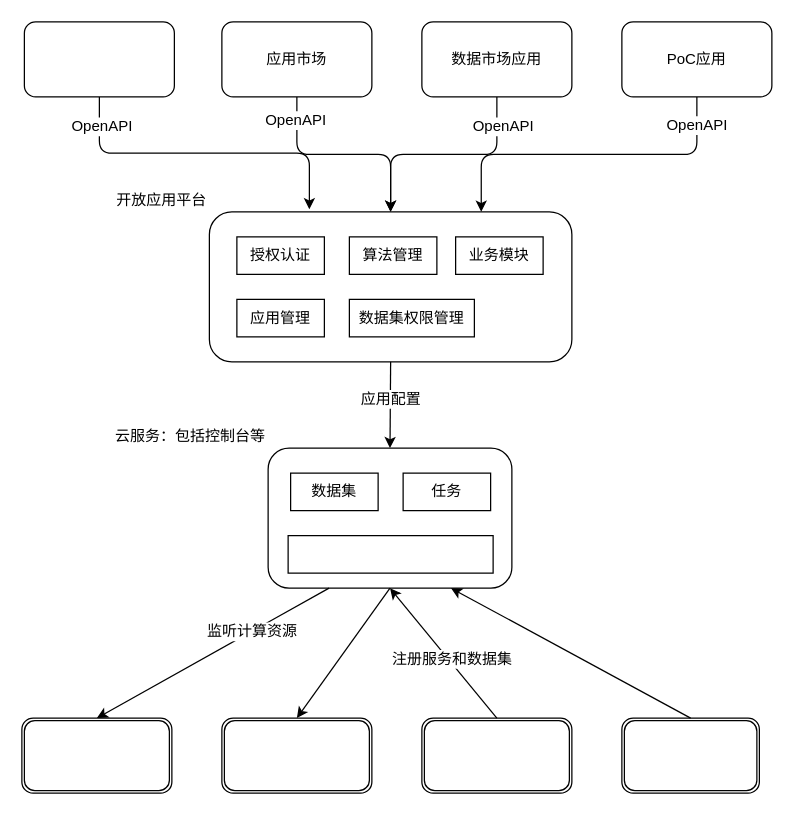
Image size: 794x815. Some labels were removed from this diagram. Here are the shapes that lost their labels. From the top down, the centre of each, then its label:
pixel 98 59: Web或者Mobile SDK
pixel 390 553: 任务调度器
pixel 96 755: 隐私计算集群A
pixel 296 755: 隐私计算集群B...
pixel 496 755: 数据提供方A
pixel 690 755: 数据提供方B...
